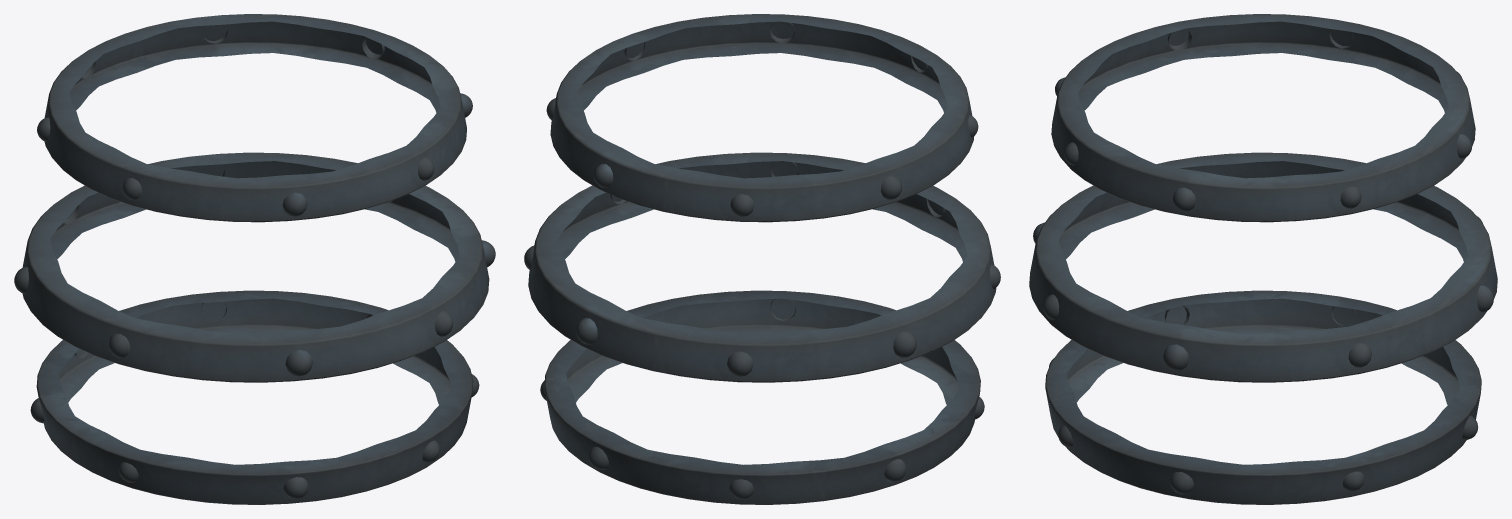
3 renders of one model, left to right at view 1: azimuth 30°, elevation 25°; view 2: azimuth 150°, elevation 25°; view 3: azimuth 270°, elevation 25°, orthographic.
Parts seen in each view (by area): view 1: Cylinder.120; view 2: Cylinder.120; view 3: Cylinder.120.
Boxes of the visible parts, x1,y1,x2,y2 form: Cylinder.120: (14, 14, 495, 504); Cylinder.120: (524, 14, 1000, 504); Cylinder.120: (1029, 14, 1497, 504).
Size of the model in its own units: 141 by 105 by 141.
1 material, 1 textured.
